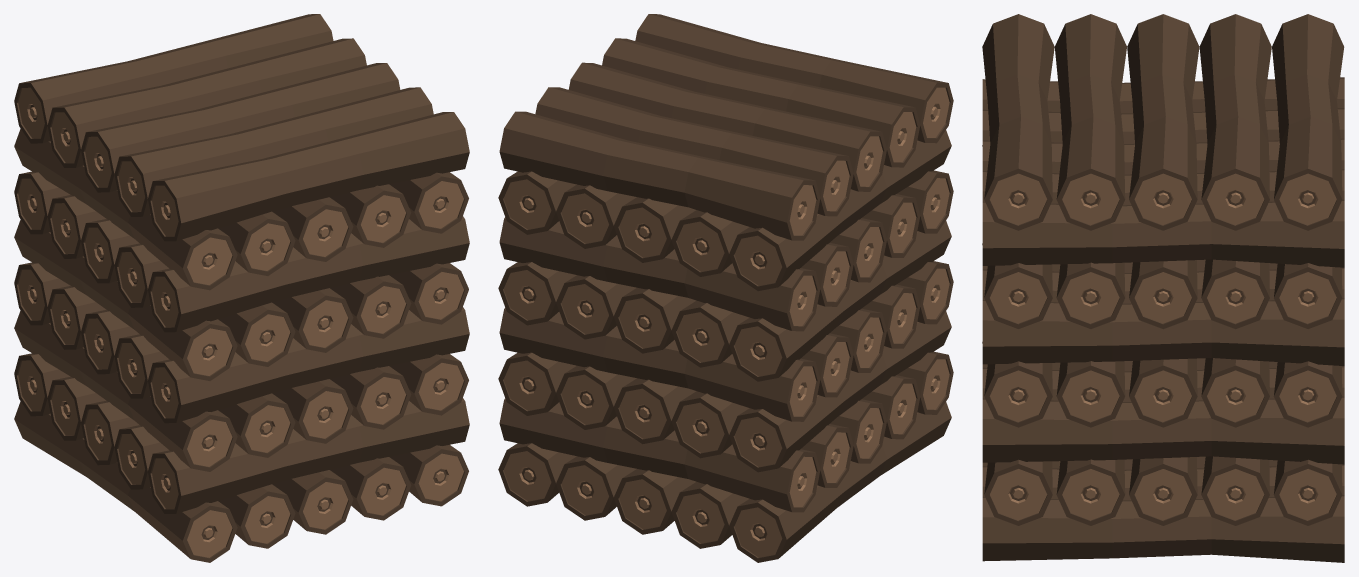
The model's file is Wooden Stockpile.fbx.
The picture shows the model from 3 angles, left to right: view 1: azimuth 30°, elevation 25°; view 2: azimuth 150°, elevation 25°; view 3: azimuth 270°, elevation 25°; orthographic projection. The views are drawn at different scales.
Visible parts, largest first — view 1: Stockpile Layer 4, Stockpile Layer 1, Stockpile Layer 3, Stockpile Layer 2; view 2: Stockpile Layer 4, Stockpile Layer 1, Stockpile Layer 3, Stockpile Layer 2; view 3: Stockpile Layer 4, Stockpile Layer 1, Stockpile Layer 3, Stockpile Layer 2.
Boxes of the visible parts, x1,y1,x2,y2 form: Stockpile Layer 4: [14, 14, 469, 290]; Stockpile Layer 1: [14, 353, 469, 562]; Stockpile Layer 3: [14, 171, 469, 380]; Stockpile Layer 2: [14, 262, 469, 471]; Stockpile Layer 4: [498, 14, 953, 291]; Stockpile Layer 1: [498, 351, 953, 562]; Stockpile Layer 3: [498, 170, 953, 381]; Stockpile Layer 2: [498, 261, 953, 472]; Stockpile Layer 4: [982, 14, 1344, 267]; Stockpile Layer 1: [982, 342, 1344, 562]; Stockpile Layer 3: [982, 145, 1344, 365]; Stockpile Layer 2: [982, 243, 1344, 464].
Size of the model in its own units: 100 by 100 by 125.
